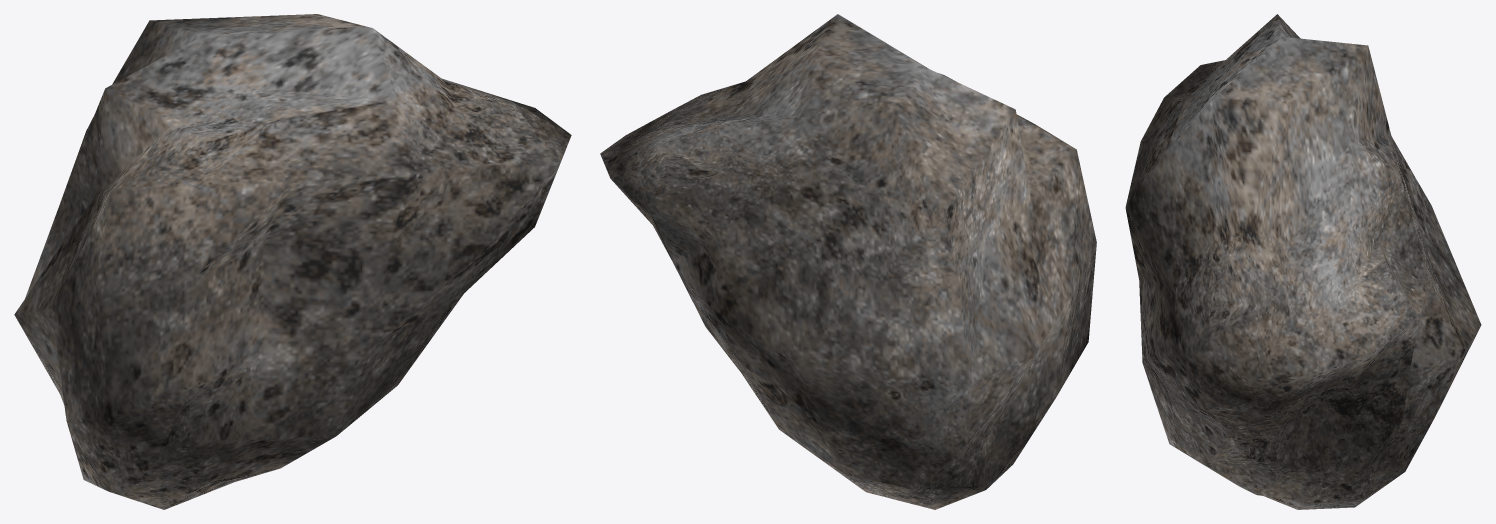
The model's file is rock4.fbx.
The picture shows the model from 3 angles, left to right: view 1: azimuth 30°, elevation 25°; view 2: azimuth 150°, elevation 25°; view 3: azimuth 270°, elevation 25°; orthographic projection. The views are drawn at different scales.
Parts seen in each view (by area): view 1: Cube.004; view 2: Cube.004; view 3: Cube.004.
Part boxes in pixels (<box>): Cube.004: <box>14,14,571,509</box>; Cube.004: <box>600,14,1096,509</box>; Cube.004: <box>1125,14,1481,509</box>.
Size of the model in its own units: 314 by 277 by 192.
1 material, 1 textured.
